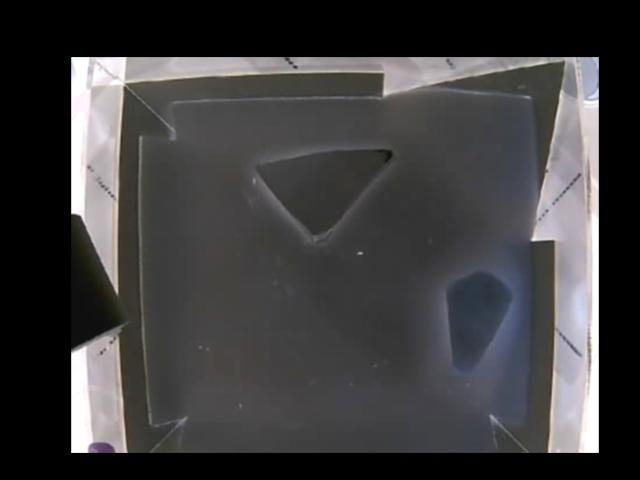China: (253, 151, 397, 241)
Mooli: (443, 271, 513, 373)
